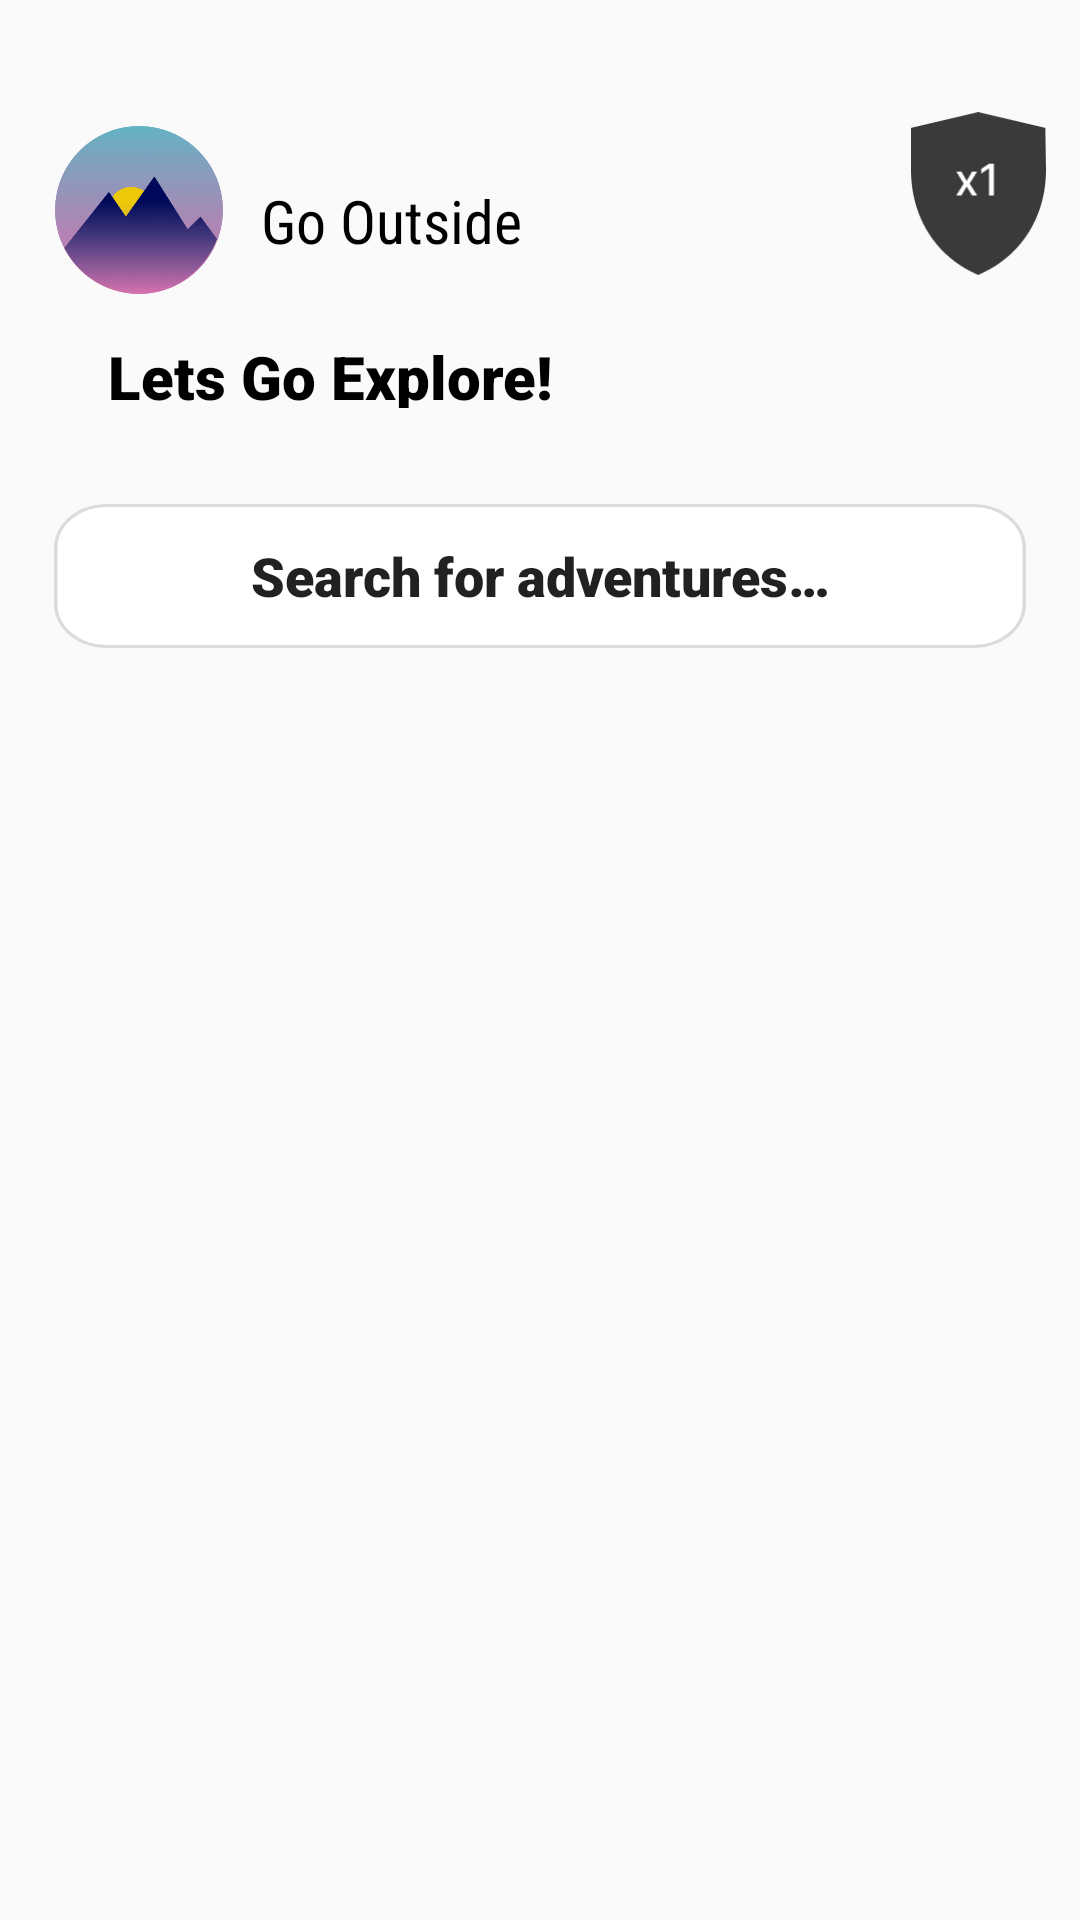

Screen size 1080×1920. Icon name, then its box in pixels as (x1, y1, x2, y2):
badge: (911, 112, 1046, 275)
